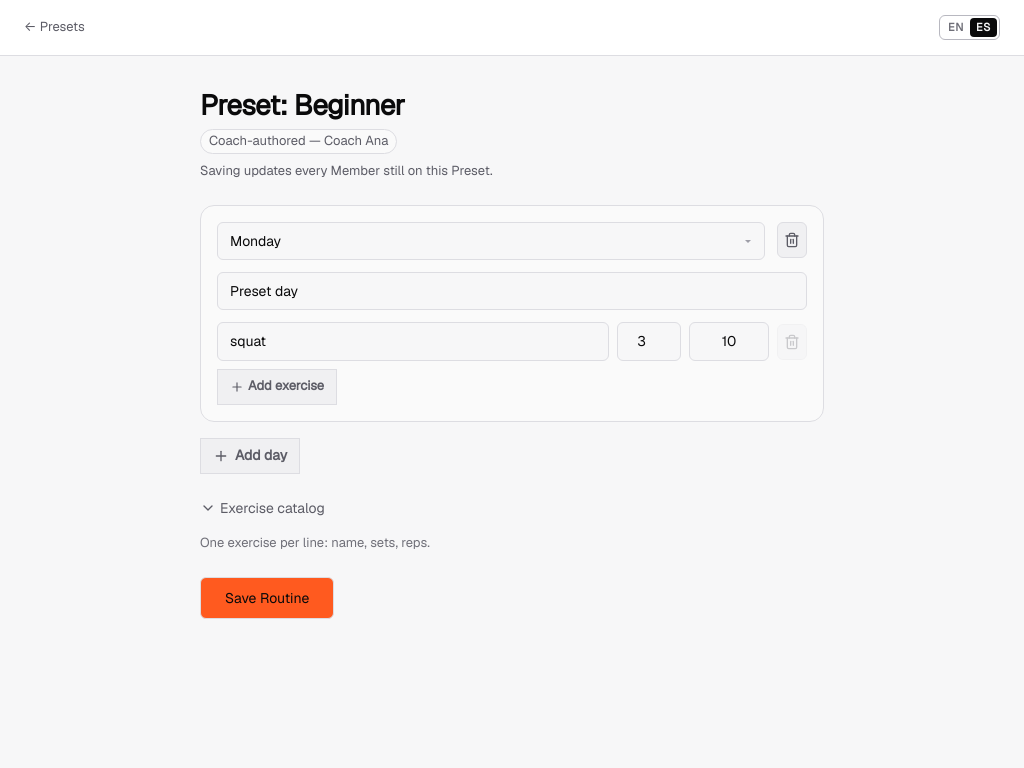
Test case: RoutineEditor preset mode › saves through PUT /api/presets/{id}/routine with the stale-check stamp
Expected: the heading "Preset: Beginner" is shown, [200, 87, 405, 123]
Click the button "Save Routine": (267, 598) [200, 577, 334, 619]
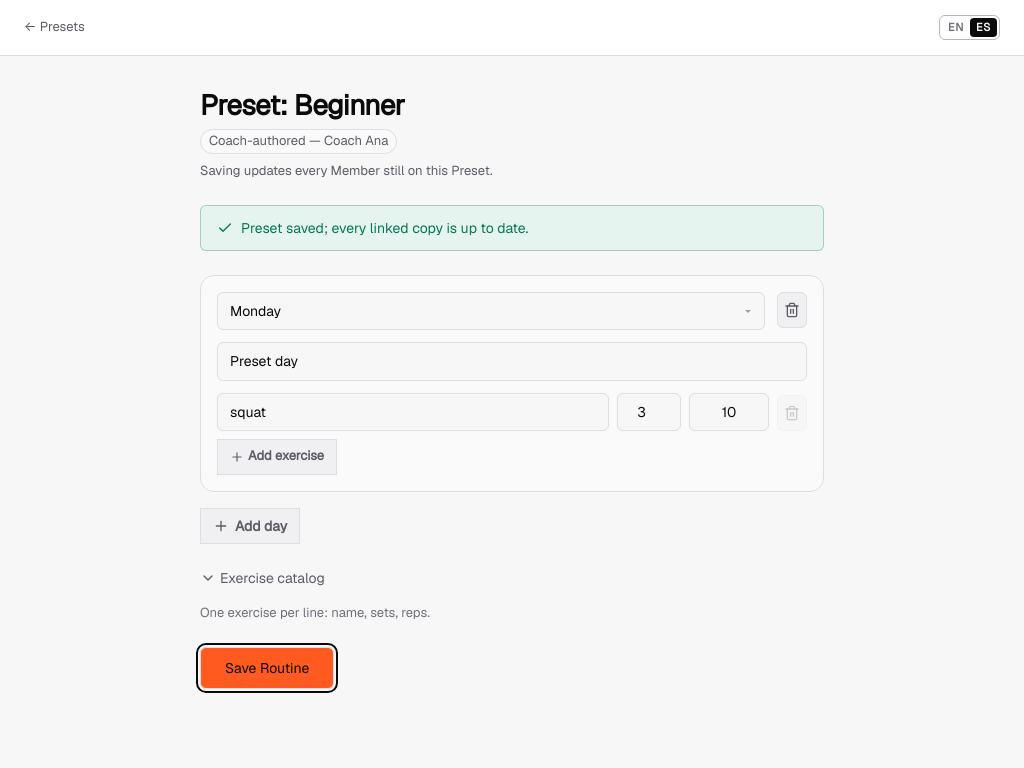
Expected: the text "Preset saved; every linked copy is up to date." is shown, [241, 218, 528, 238]
